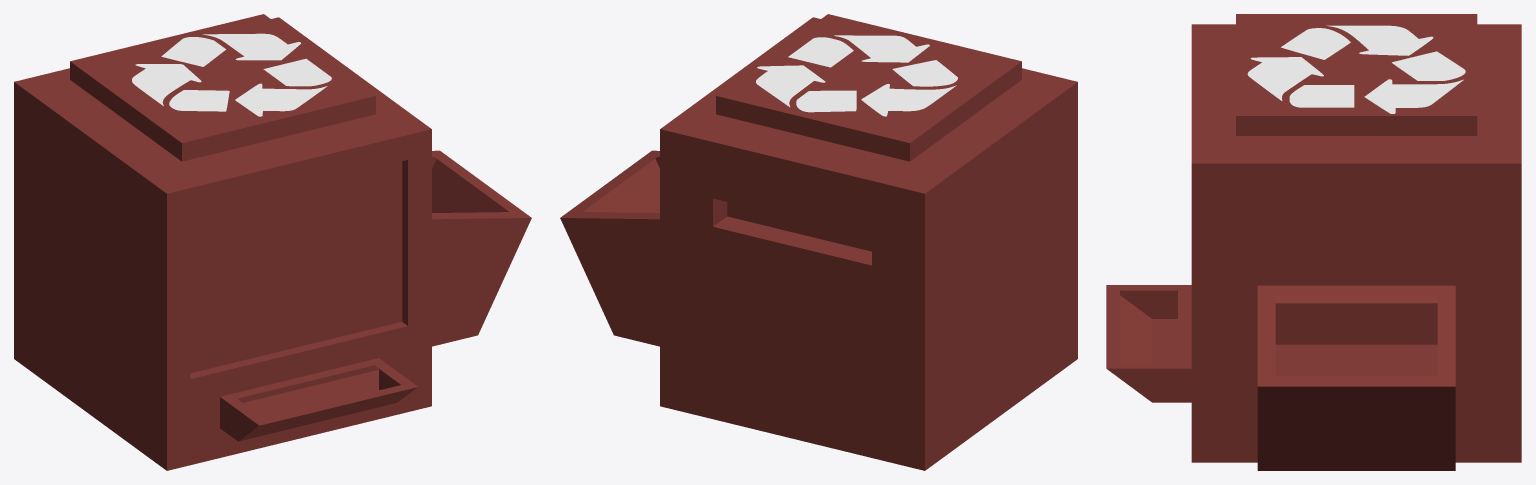
File: Recycler_Red.fbx
The picture shows the model from 3 angles, left to right: view 1: azimuth 30°, elevation 25°; view 2: azimuth 150°, elevation 25°; view 3: azimuth 270°, elevation 25°; orthographic projection. The views are drawn at different scales.
Visible parts, largest first — view 1: Cube, recycle-512; view 2: Cube, recycle-512; view 3: Cube, recycle-512.
Part boxes in pixels (<box>): Cube: <box>14,14,531,470</box>; recycle-512: <box>132,33,331,116</box>; Cube: <box>560,14,1077,470</box>; recycle-512: <box>756,35,957,116</box>; Cube: <box>1106,14,1521,470</box>; recycle-512: <box>1247,25,1465,113</box>.
Bounding box in the file's own units: 417 × 307 × 351.
Materials: 2 (1 with a texture image).
